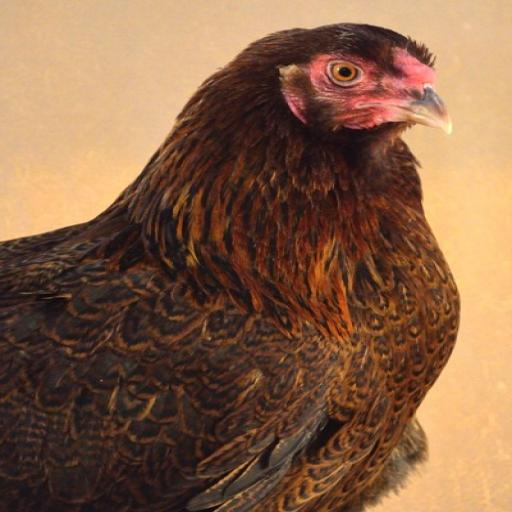healthy: (288, 12, 454, 156)
